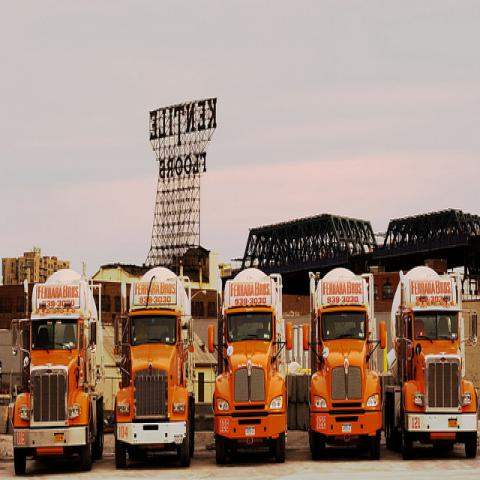truck: (11, 264, 105, 473), (382, 263, 478, 461), (112, 261, 196, 470), (206, 266, 292, 465), (310, 268, 384, 462)
